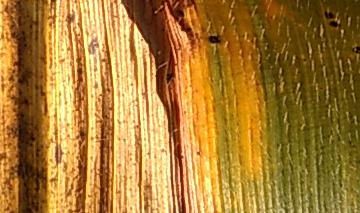tarspot: (322, 8, 338, 22), (207, 34, 222, 47), (164, 71, 177, 85), (174, 8, 186, 20), (326, 19, 340, 29), (350, 44, 360, 56), (78, 130, 86, 138), (195, 149, 202, 157), (265, 42, 270, 51), (346, 140, 353, 146), (302, 57, 307, 63), (49, 1, 56, 3)
